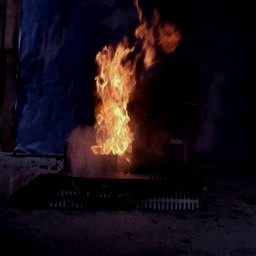fire: (60, 4, 180, 179)
